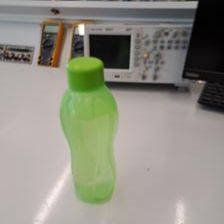bottle: (58, 55, 119, 202)
